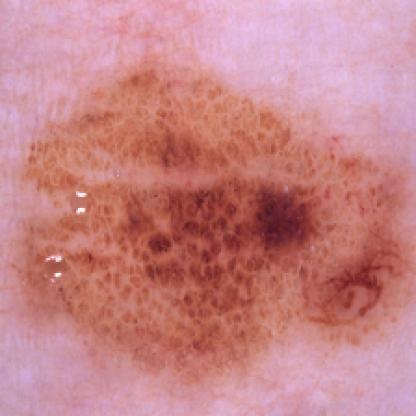benign: (26, 71, 407, 375)
